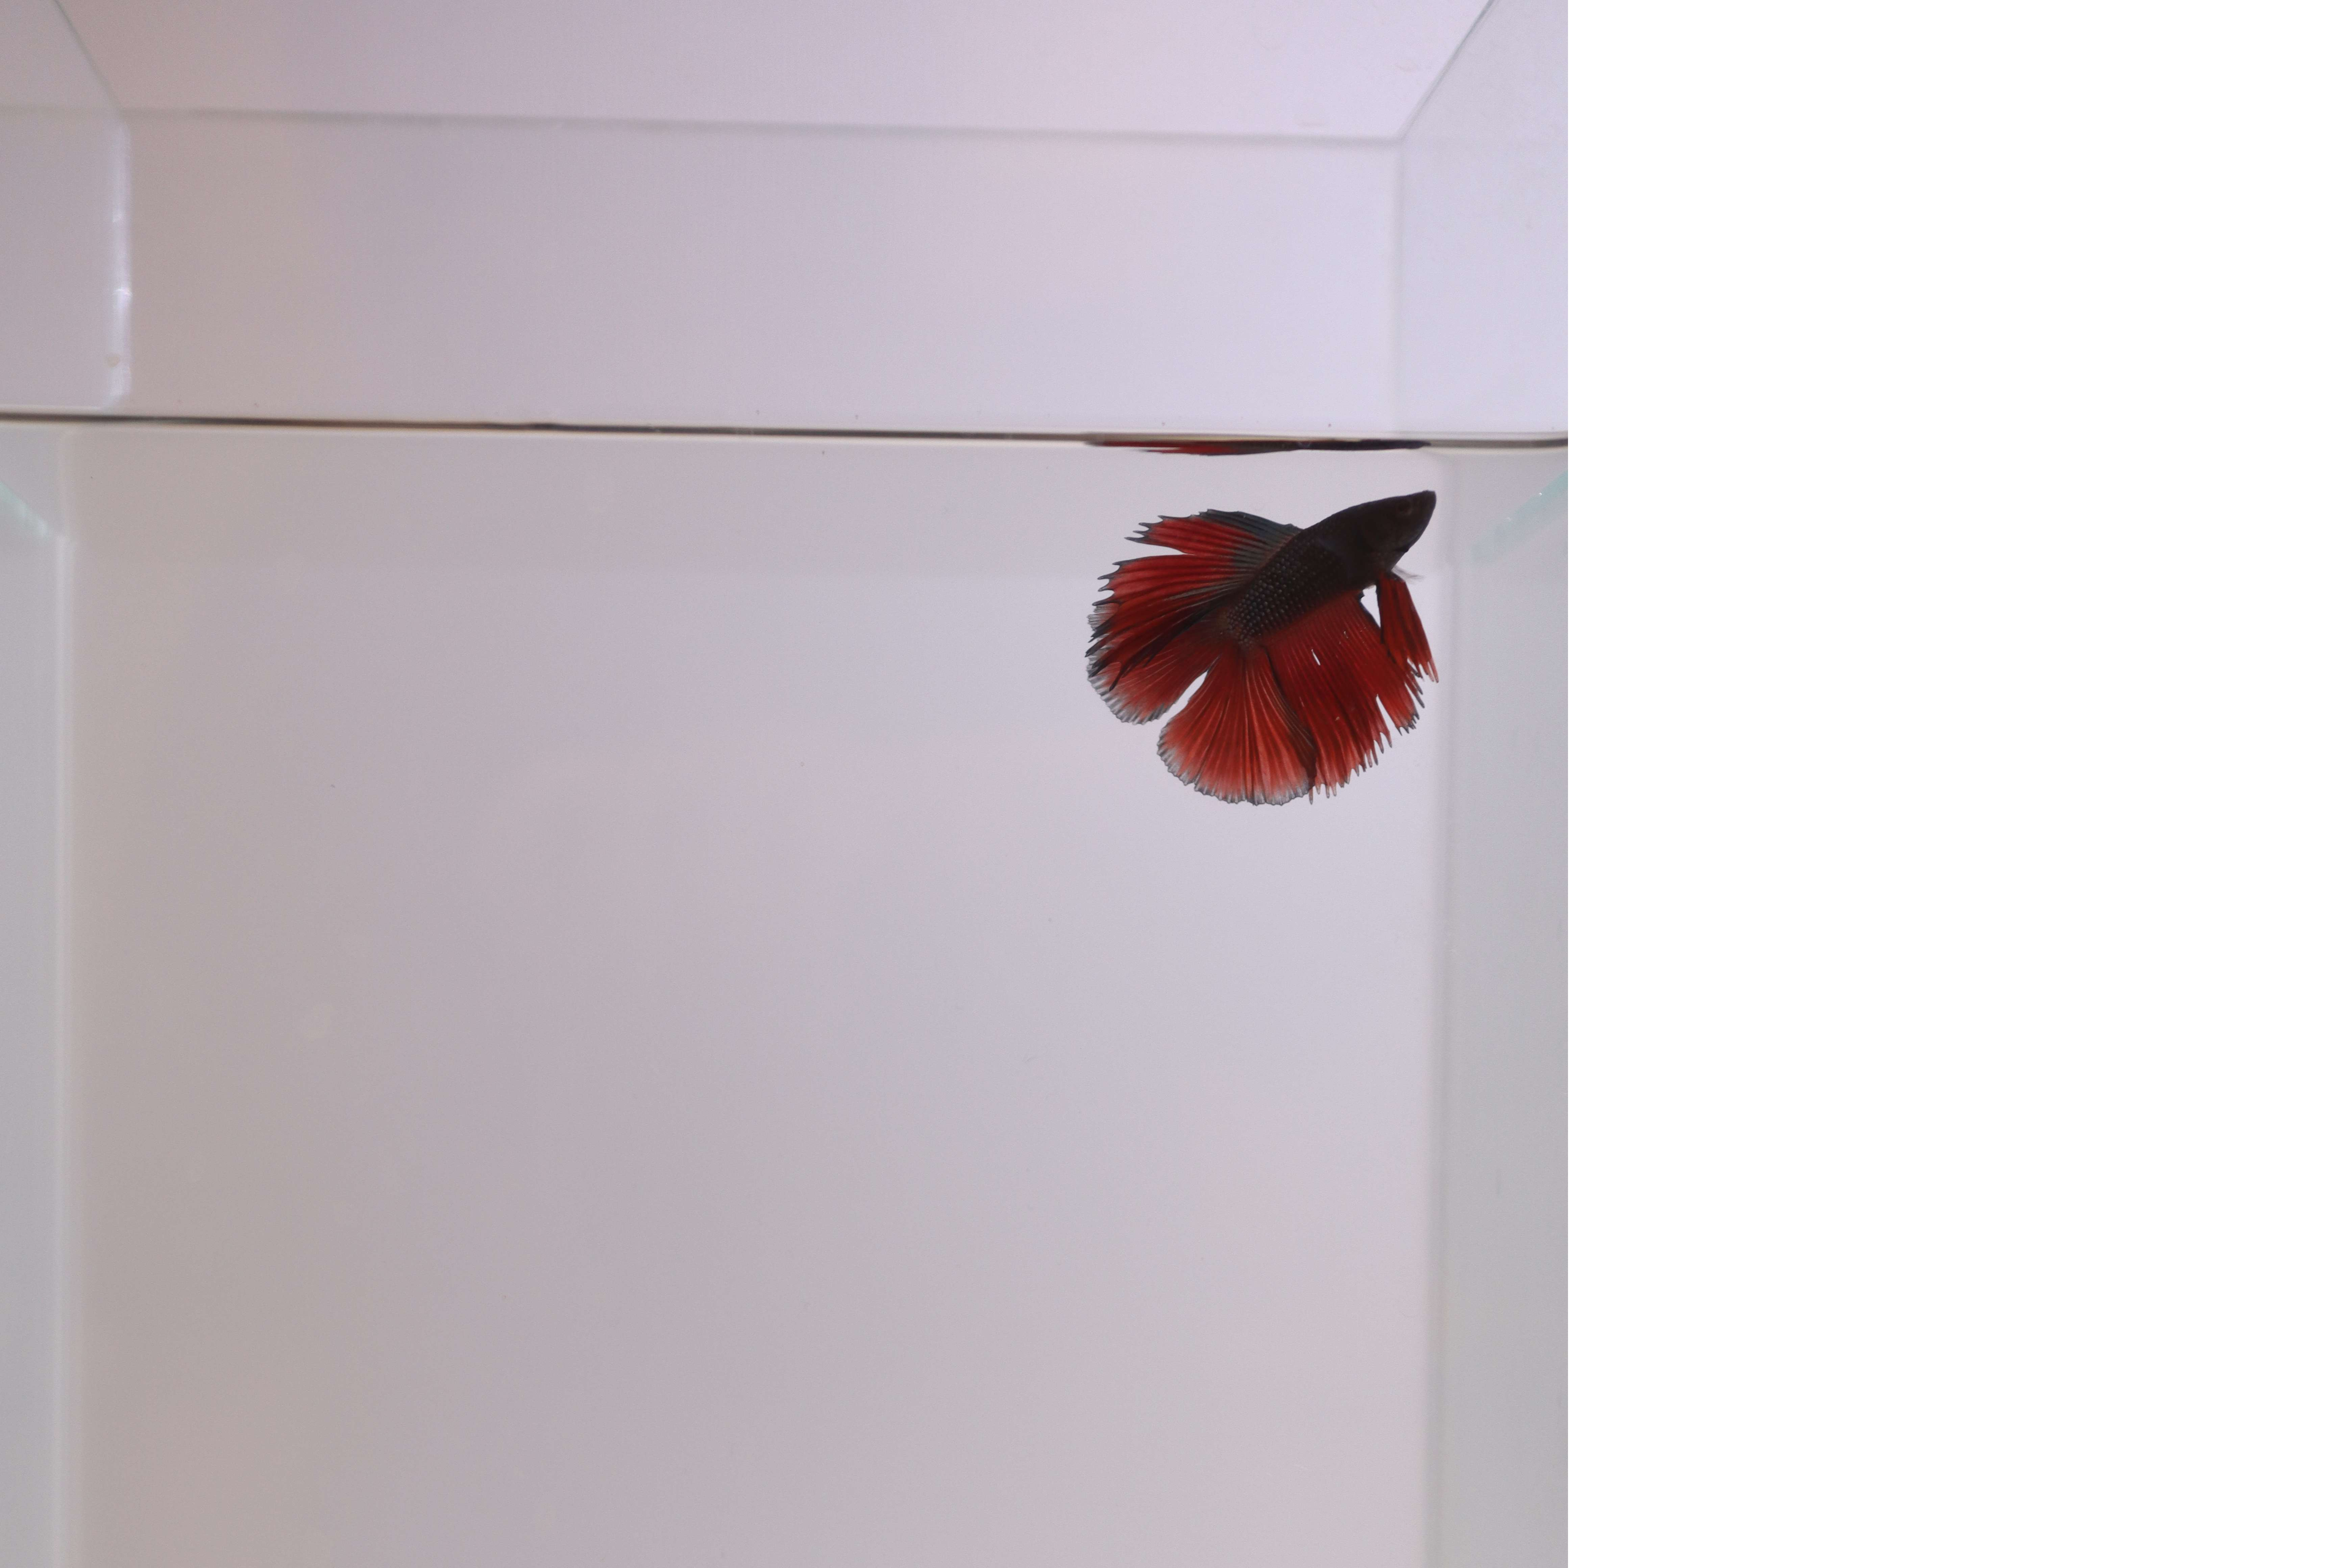fish: (1043, 476, 1453, 817)
